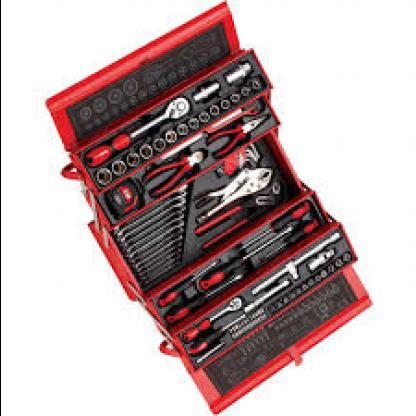Tool Box: (42, 0, 378, 416)
